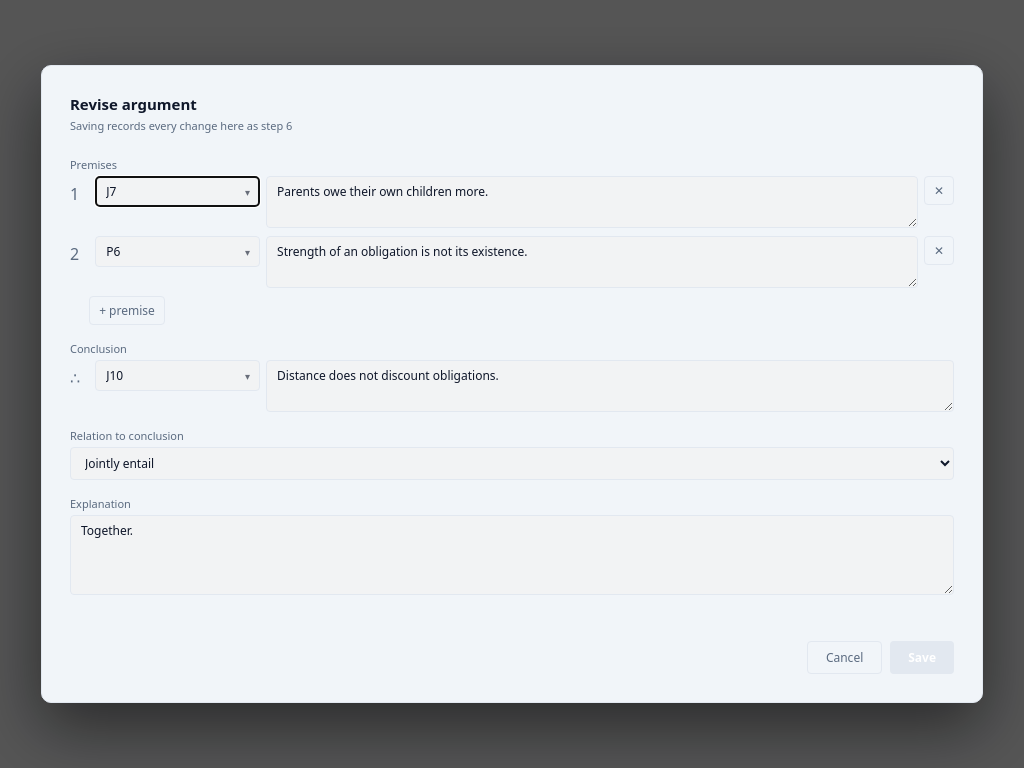
Test: ReviseArgumentModal › refuses the conclusion as a premise, and a premise twice
Click the button "+ premise": (127, 311) left=89, top=296, right=165, bottom=325
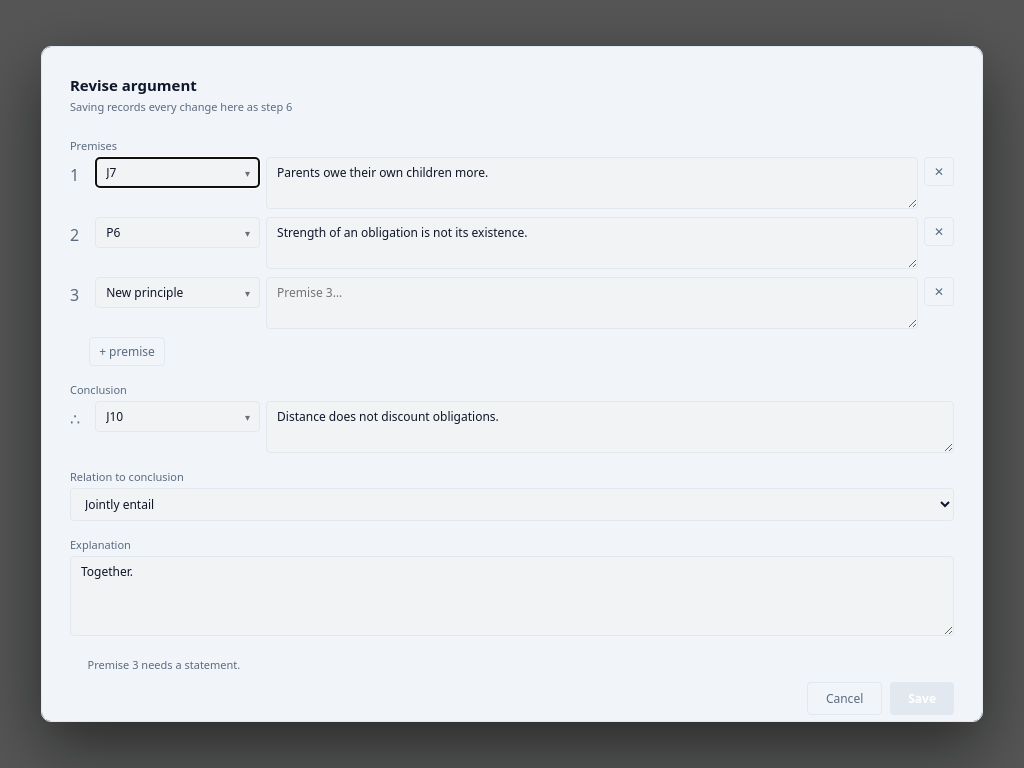
Click the dropdown labelled "New principle": (178, 293) left=95, top=277, right=260, bottom=308
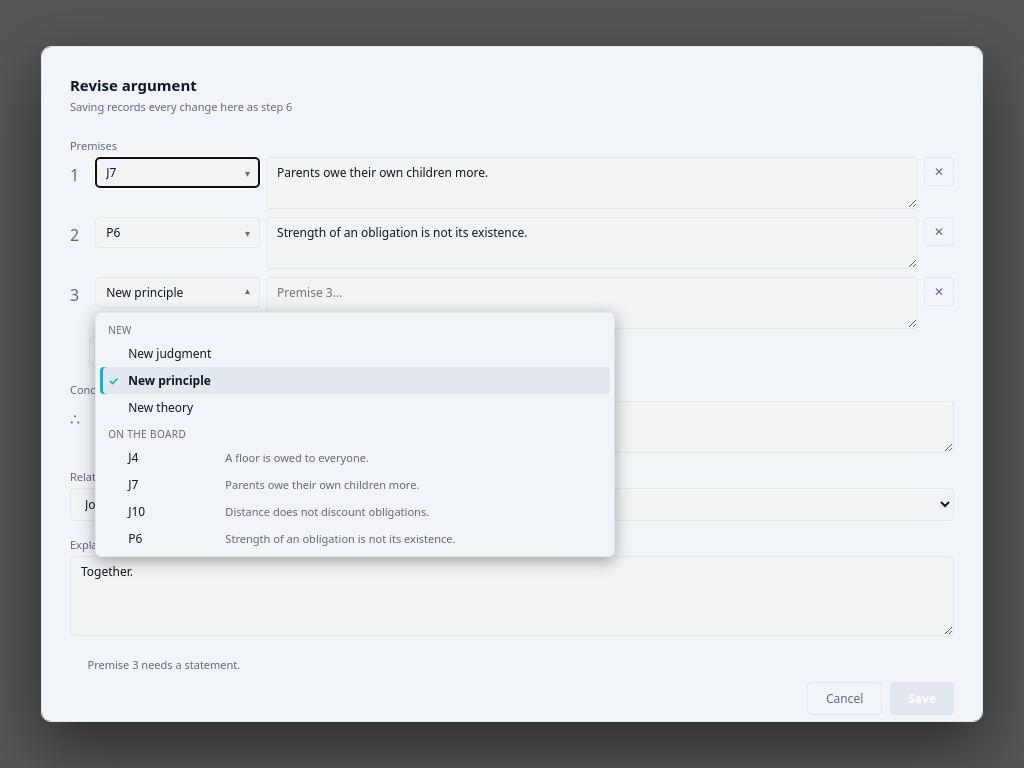
Click the option "J7 Parents owe their own children more.": (274, 485) left=128, top=476, right=419, bottom=493
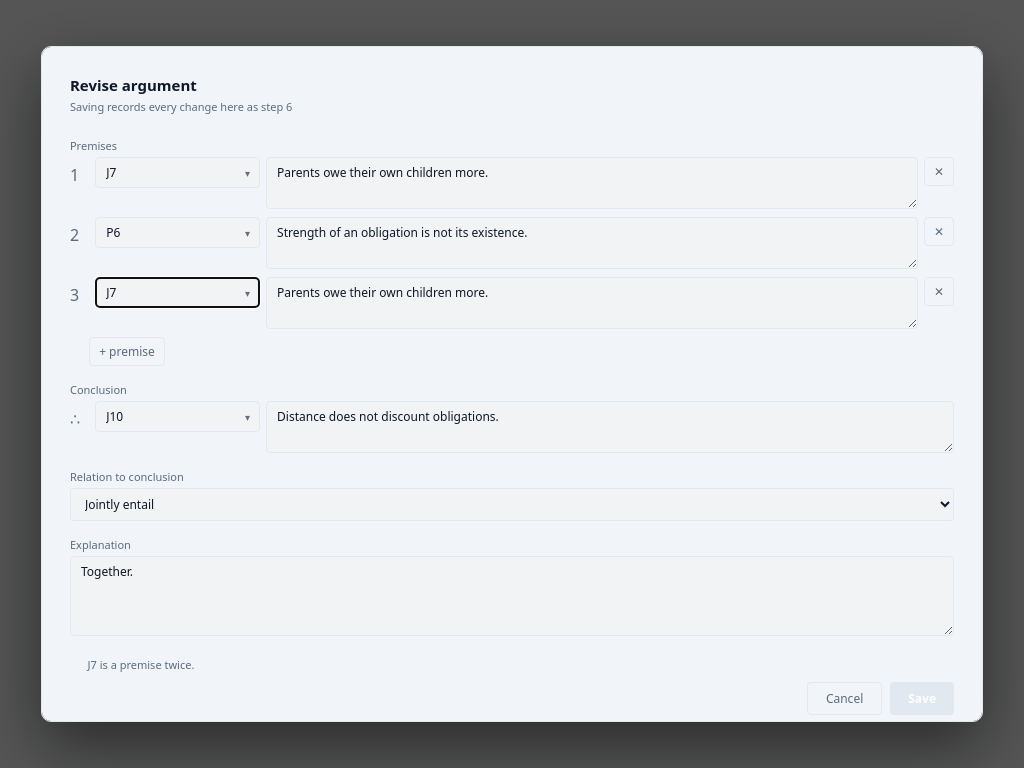
Expected: the button "Save" is disabled, left=890, top=682, right=954, bottom=715
Now the text "J7 is a premise twice." is shown, box left=88, top=657, right=194, bottom=672
